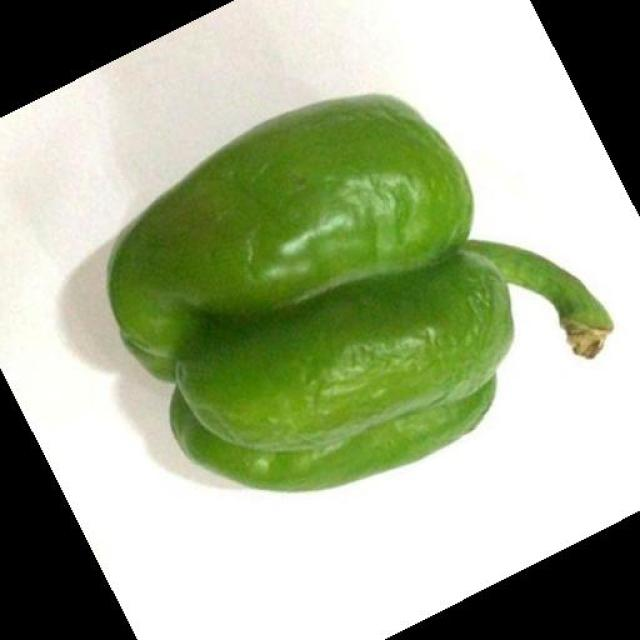Fresh_Capsicum: (111, 184, 542, 428), (93, 161, 124, 173)
